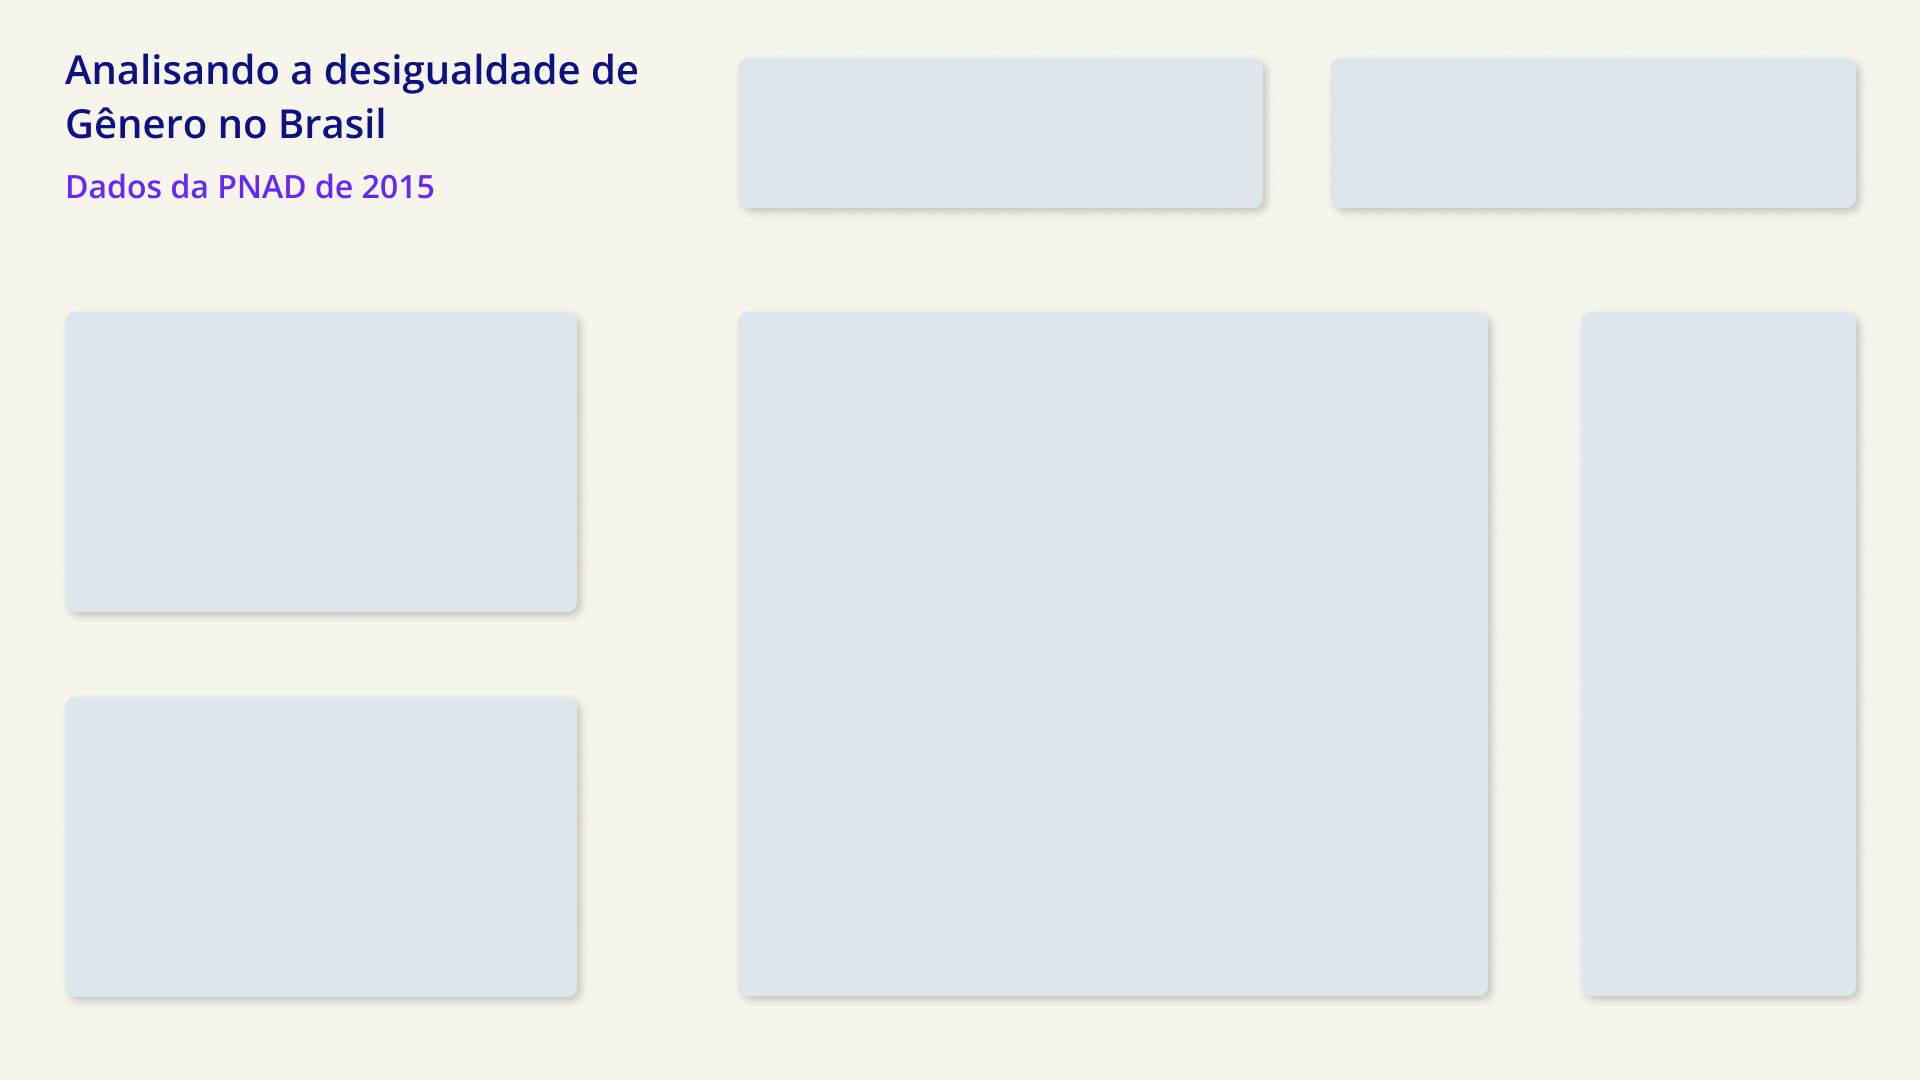

This screenshot's page, from the dashboard's own definition file:
{"tool":"powerbi","page":{"name":"Contagem","canvas":[1280,720],"ordinal":0},"visuals":[{"type":"card","fields":{"Values":["CountNonNull(Renda.Sexo)"]},"box":[44.7,466.5,342.1,201.2],"z":0},{"type":"card","fields":{"Values":["CountNonNull(Renda.Sexo)"]},"box":[44.7,208,342.1,200.2],"z":1000},{"type":"slicer","fields":{"Values":["Renda.UF"]},"box":[492.8,40.8,349.9,98.2],"z":2000},{"type":"slicer","fields":{"Values":["Renda.Cor"]},"box":[887.4,40.8,349.9,98.2],"z":3000},{"type":"donutChart","title":"Proporção de Homens x Mulheres","fields":{"Category":["Renda.Sexo"],"Y":["CountNonNull(Renda.Id)"]},"box":[504.4,218.7,474.3,432.5],"z":4000},{"type":"textbox","box":[1062.3,230.3,166.2,420.8],"z":5000},{"type":"actionButton","box":[1221.7,0,58.3,39.8],"z":5001}]}

Visuals, with their boxes in screenshot pixels (x1, y1, x2, y2), scaled from the page's 1280x720 canvas onto the 1920x1080 screenshot:
card - CountNonNull(Renda.Sexo): [67, 700, 580, 1002]
card - CountNonNull(Renda.Sexo): [67, 312, 580, 612]
slicer - Renda.UF: [739, 61, 1264, 208]
slicer - Renda.Cor: [1331, 61, 1856, 208]
"Proporção de Homens x Mulheres" donutChart: [757, 328, 1468, 977]
textbox: [1593, 345, 1843, 977]
actionButton: [1833, 0, 1919, 60]
